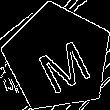M_NW: (26, 25, 90, 91)
